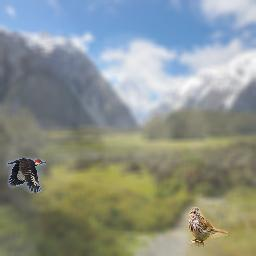Sparrow: (188, 207, 228, 247)
Woodpecker: (6, 158, 46, 193)
